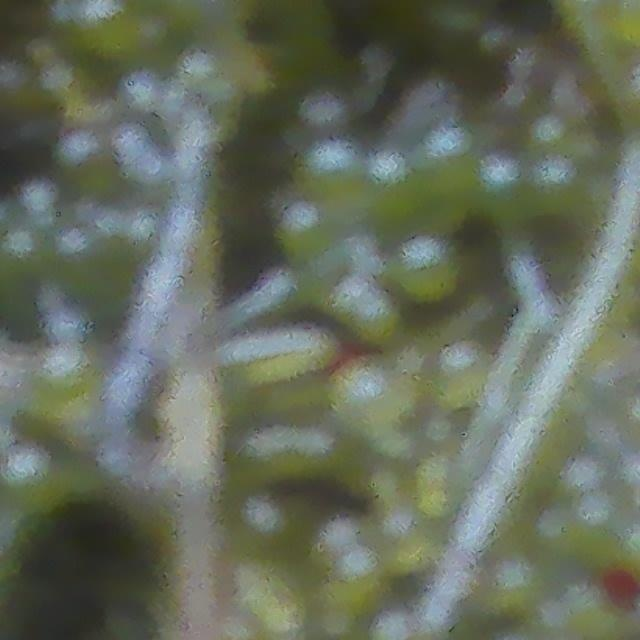SeaGrape: (347, 288, 399, 343)
